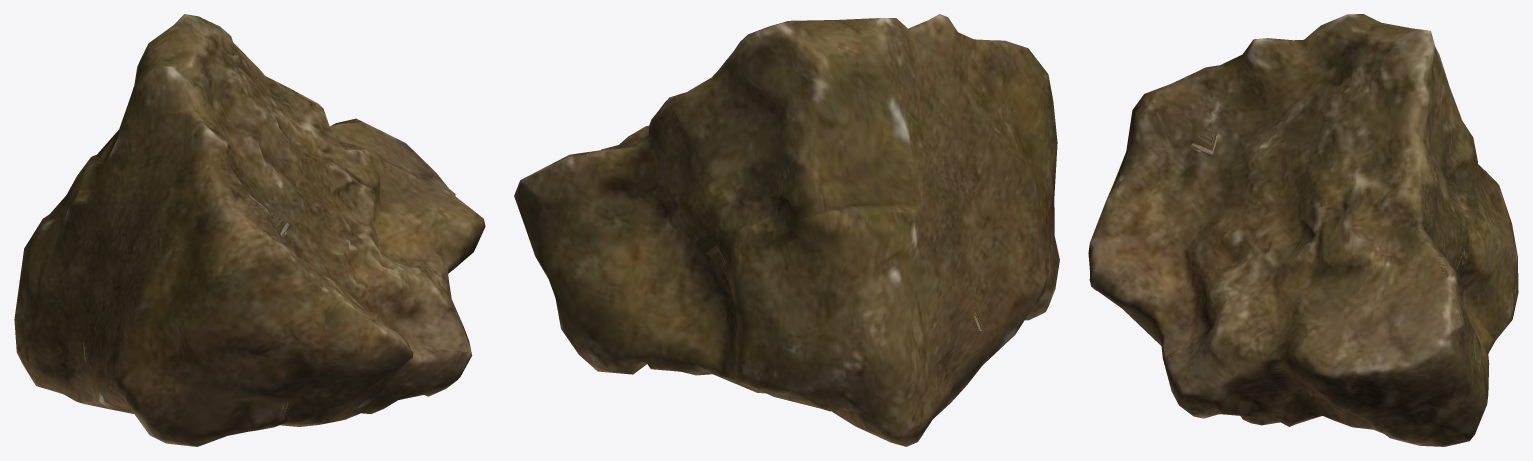
File: verdant-rock-crag.glb
The picture shows the model from 3 angles, left to right: view 1: azimuth 30°, elevation 25°; view 2: azimuth 150°, elevation 25°; view 3: azimuth 270°, elevation 25°; orthographic projection. The views are drawn at different scales.
Parts seen in each view (by area): view 1: verdant-rock-crag-0; view 2: verdant-rock-crag-0; view 3: verdant-rock-crag-0.
Part boxes in pixels (bbox=[...]): verdant-rock-crag-0: bbox=[14, 14, 485, 446]; verdant-rock-crag-0: bbox=[514, 14, 1059, 446]; verdant-rock-crag-0: bbox=[1088, 14, 1518, 446].
Bounding box in the file's own units: 1.06 × 0.8816 × 0.9822.
1 material, 1 textured.
